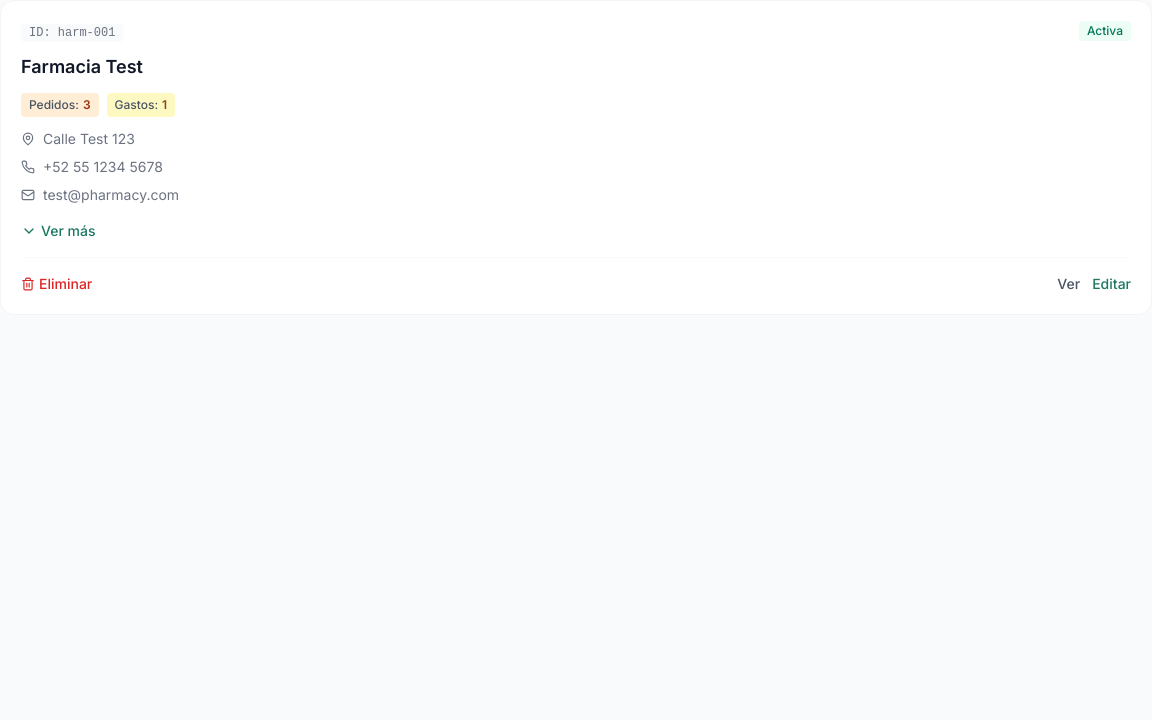
PharmacyCard › should expand to show more details when clicked
Click the button "Ver más".
click(58, 231)  # box [21,221,96,241]
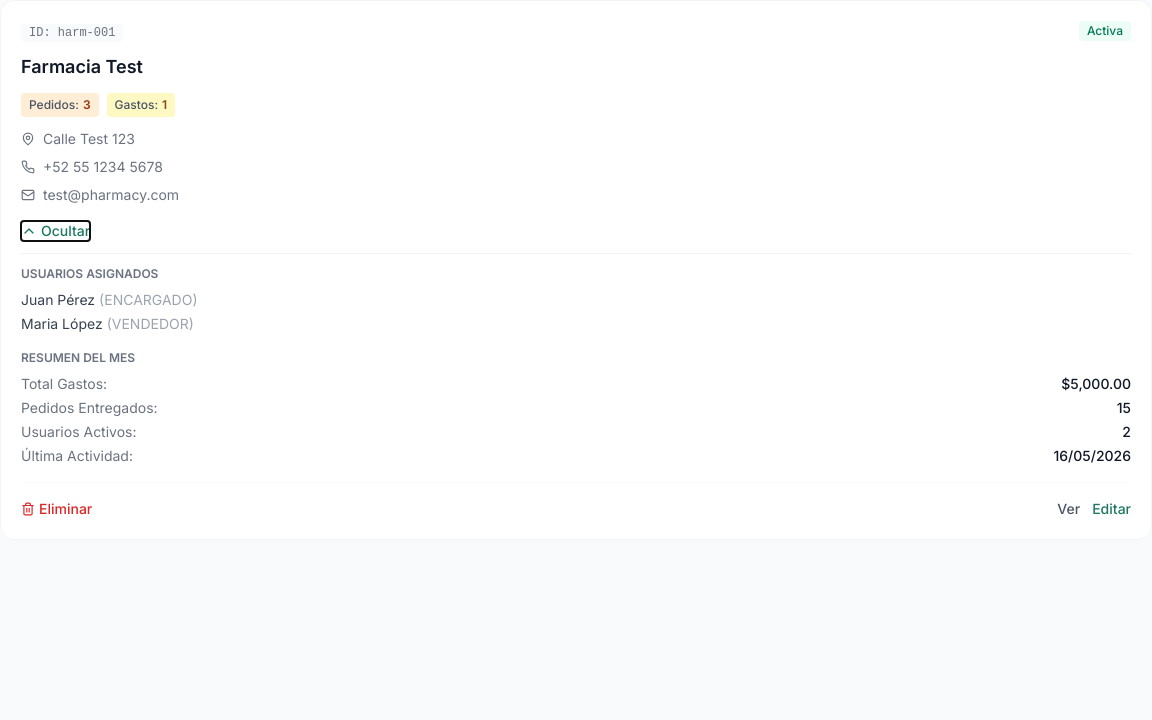
Expected: the text "Ocultar" is shown, [41,221,90,241]
Expected: the heading "Usuarios Asignados" is shown, [21,266,158,281]
Expected: the heading "Resumen del Mes" is shown, [21,350,135,365]
